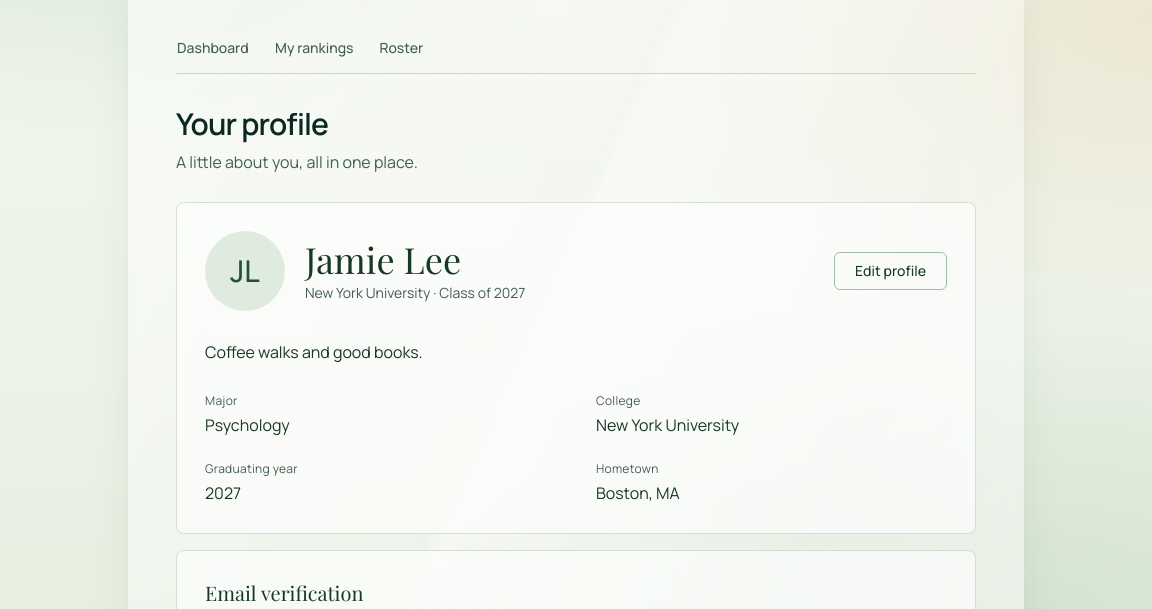
Test: saves all profile fields together and shows single chapter membership
Click the button "Edit profile".
click(891, 272)  # box x1=834 y1=252 x2=947 y2=290
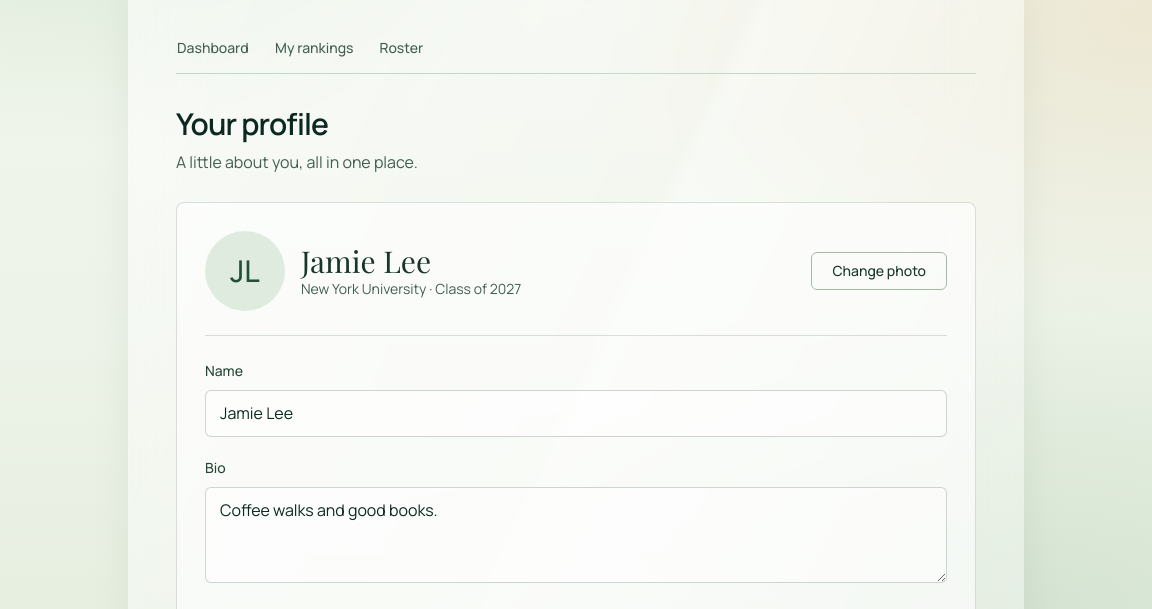
Result: the field showing "Jamie Lee" is shown
Replace the text in the field labelled "Name" with "Jamie Chen" at (576, 414), box x1=205 y1=390 x2=947 y2=437
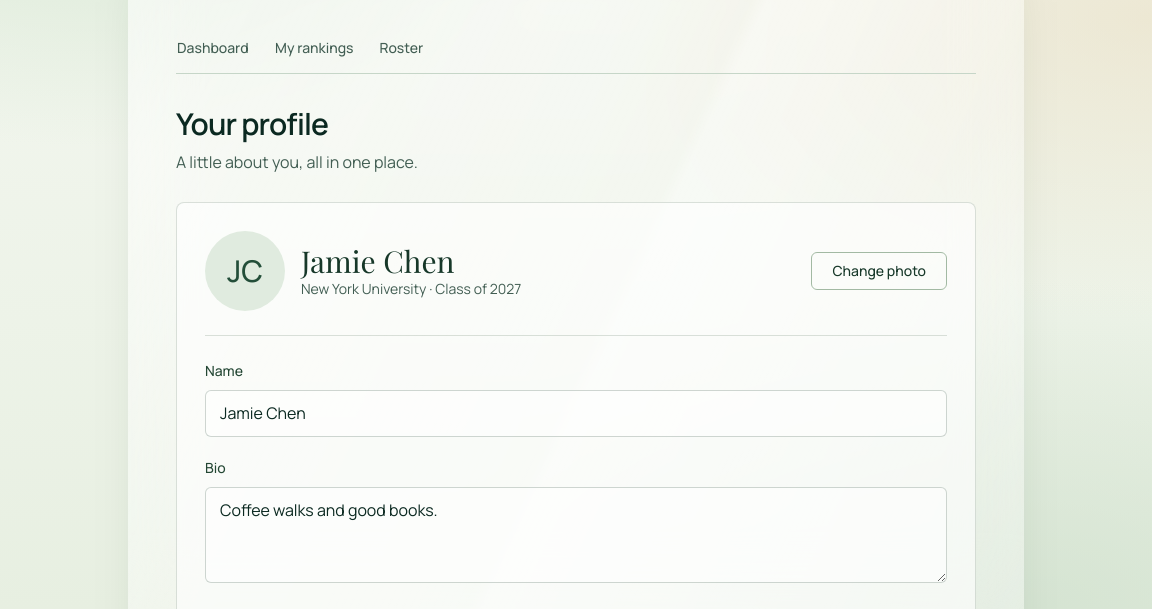
Replace the text in the text box labelled "Bio" with "New bio" at (576, 535), box x1=205 y1=487 x2=947 y2=583
(page scrolled)
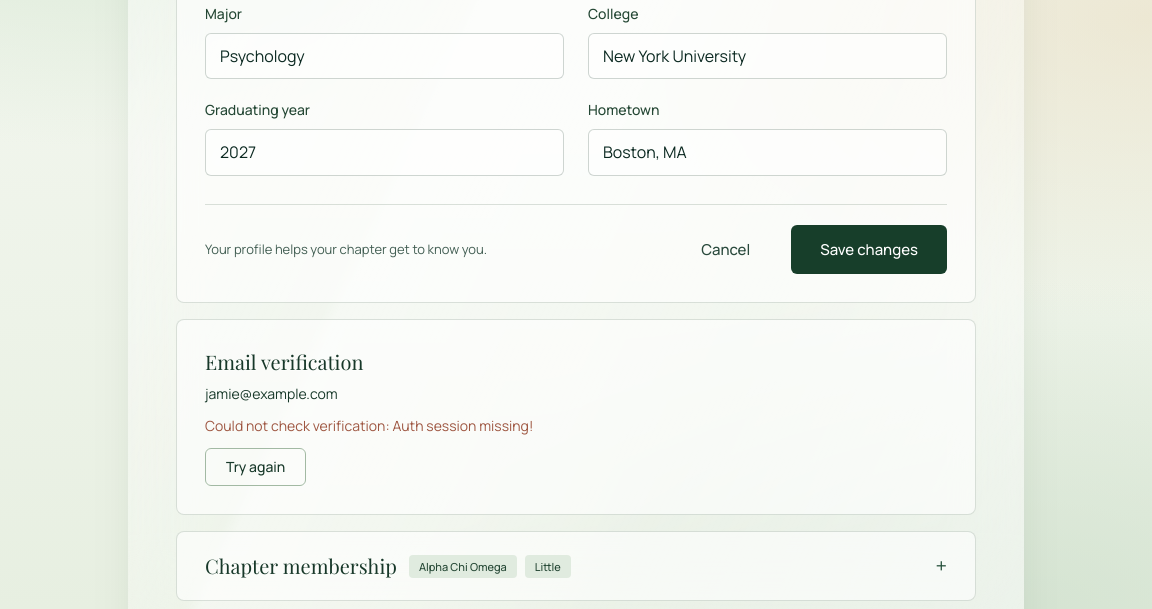
Click the button "Save changes".
click(869, 249)  # box x1=791 y1=225 x2=947 y2=274
(page scrolled)
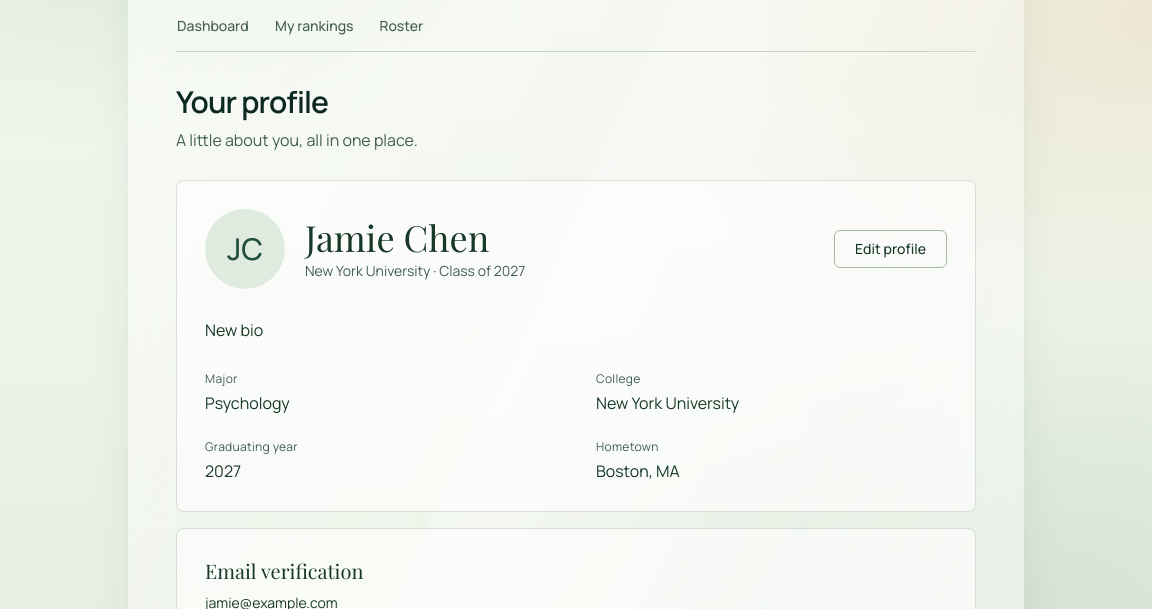
Result: the heading "Jamie Chen" is shown at x1=305 y1=214 x2=489 y2=262
Result: the button "Edit profile" is shown at x1=834 y1=230 x2=947 y2=268
